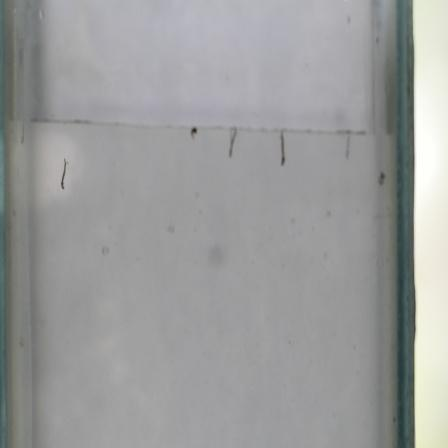Jentik-Nyamuk: (56, 154, 72, 192)
